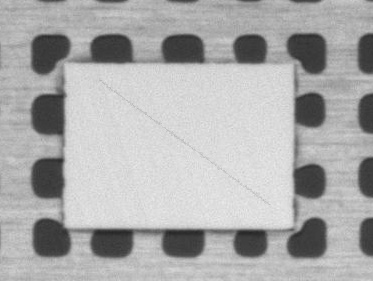DIE_CRACK: (131, 60, 357, 154)
